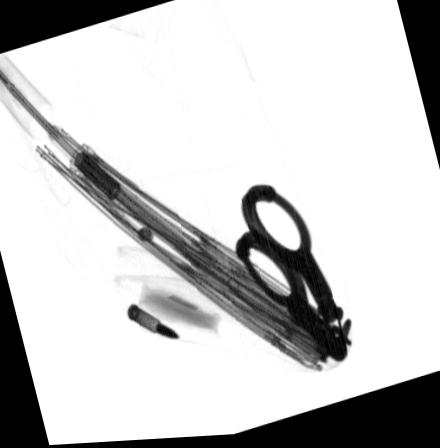Bullet: (127, 305, 181, 339)
HandCuffs: (232, 185, 352, 370)
